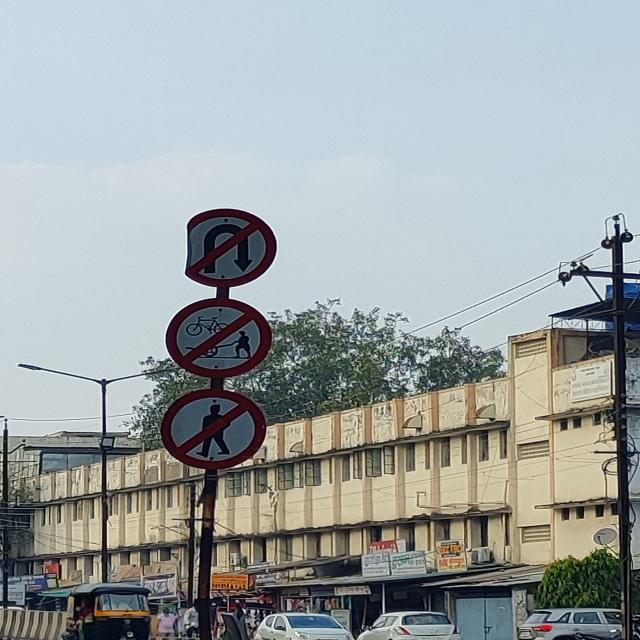CYCLE_PROHIBITED: (161, 295, 275, 379)
